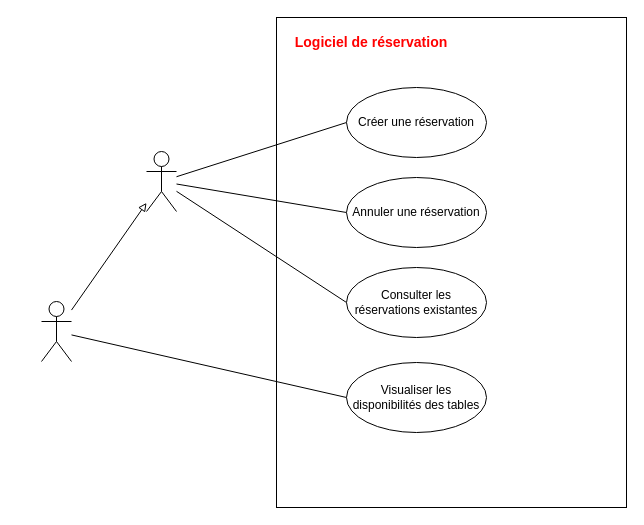
Image size: 644x525. Some labels were removed from this diagram. Each missing label, with the centre of its shape:
"Personnel" belongs at point 161,181.
"Réceptionniste" belongs at point 56,331.
